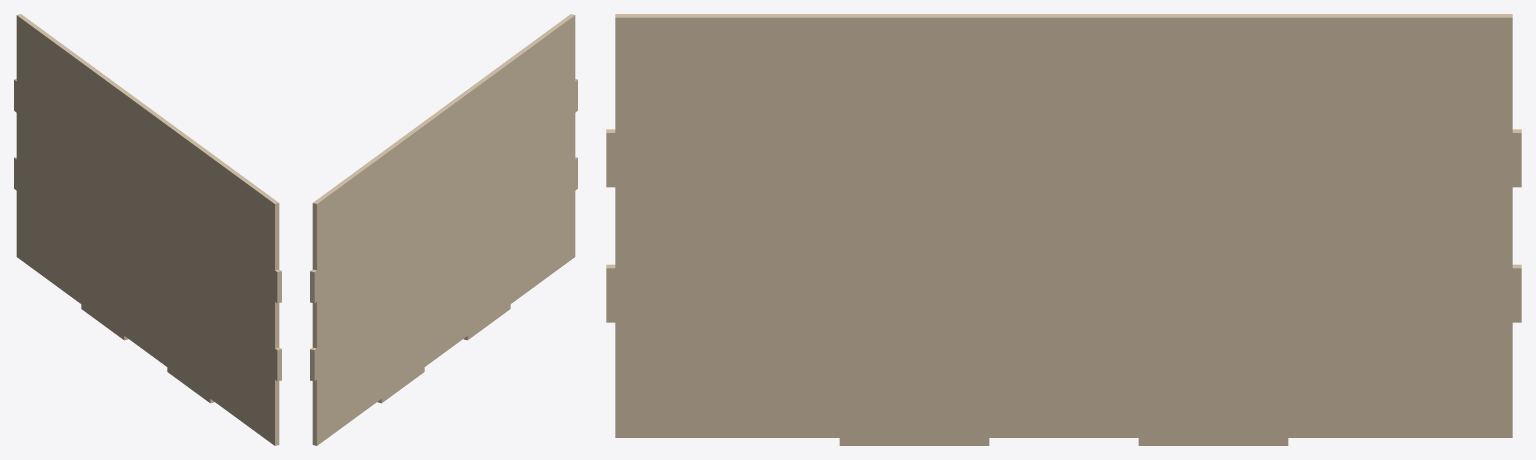
File: box-finger-joints-boxprojectfinger-back.glb
3 renders of one model, left to right at view 1: azimuth 30°, elevation 25°; view 2: azimuth 150°, elevation 25°; view 3: azimuth 270°, elevation 25°, orthographic. The views are drawn at different scales.
Parts seen in each view (by area): view 1: Back; view 2: Back; view 3: Back.
Part boxes in pixels (<box>): Back: <box>14,14,281,445</box>; Back: <box>310,14,577,445</box>; Back: <box>606,14,1521,445</box>.
Bounding box in the file's own units: 0.006 × 0.316 × 0.612.
